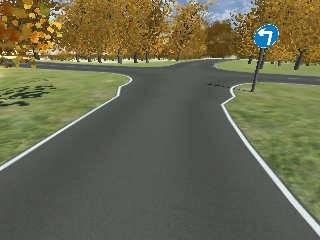left: (253, 24, 280, 46)
